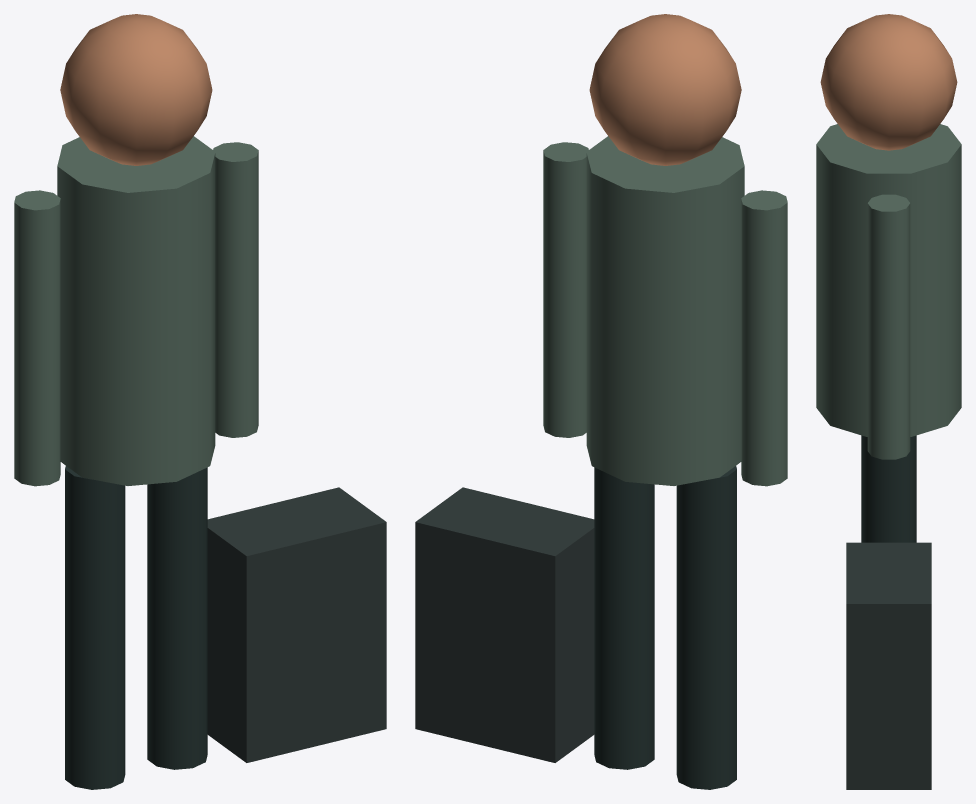
Rendered from pedestrian-traveler.glb.
The picture shows the model from 3 angles, left to right: view 1: azimuth 30°, elevation 25°; view 2: azimuth 150°, elevation 25°; view 3: azimuth 270°, elevation 25°; orthographic projection. The views are drawn at different scales.
Visible parts, largest first — view 1: pedestrian-traveler; view 2: pedestrian-traveler; view 3: pedestrian-traveler.
Boxes of the visible parts, left/top/right/bottom form: pedestrian-traveler: left=14, top=14, right=386, bottom=789; pedestrian-traveler: left=415, top=14, right=787, bottom=789; pedestrian-traveler: left=816, top=14, right=961, bottom=789.
Bounding box in the file's own units: 0.8376 × 1.73 × 0.34.
